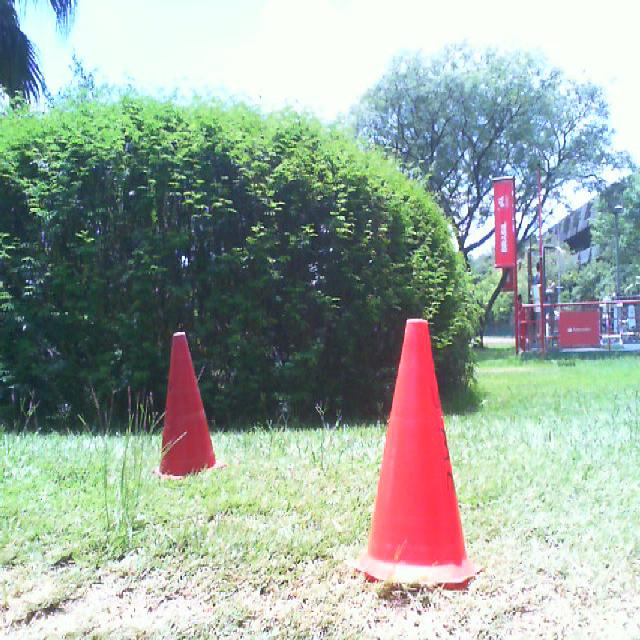cone: (344, 319, 484, 585), (152, 332, 227, 480)
